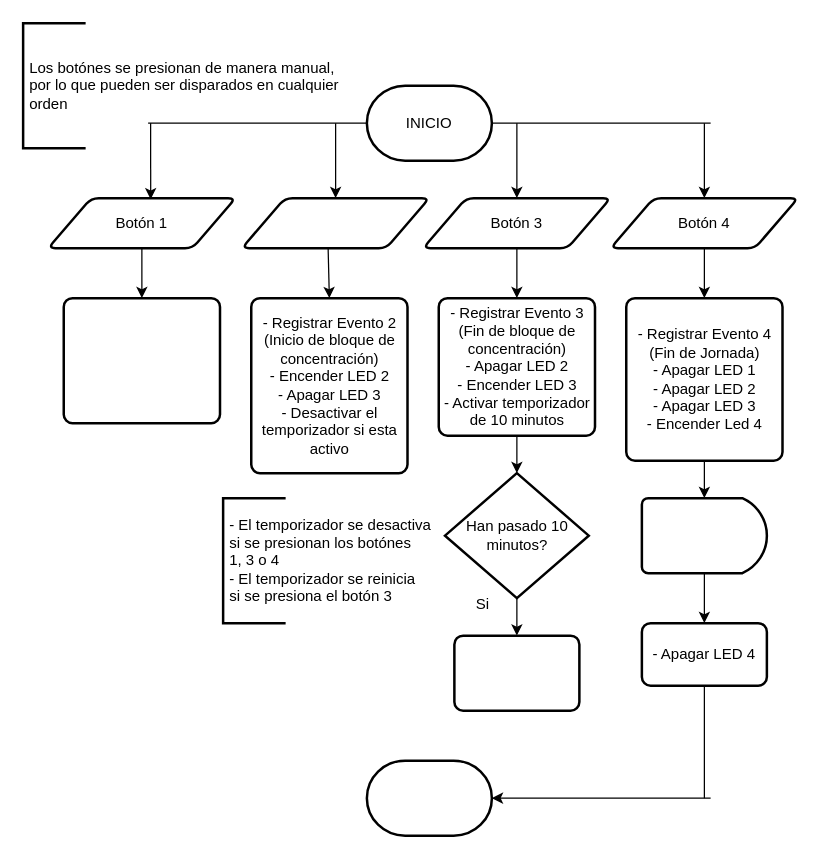
The diagram is 820 pixels wide and 858 high, and some of its shapes have lost their labels. Each missing label, with the centre of its shape:
"- Activar Alarma" goes at (x=516, y=672).
"- Registrar Evento 1 (Inicio Jornada) - Encender LED 1" goes at (x=141, y=360).
"Botón 2" goes at (x=335, y=222).
"Esperar 1 Segundo" goes at (x=704, y=535).
"FIN" goes at (x=428, y=797).
